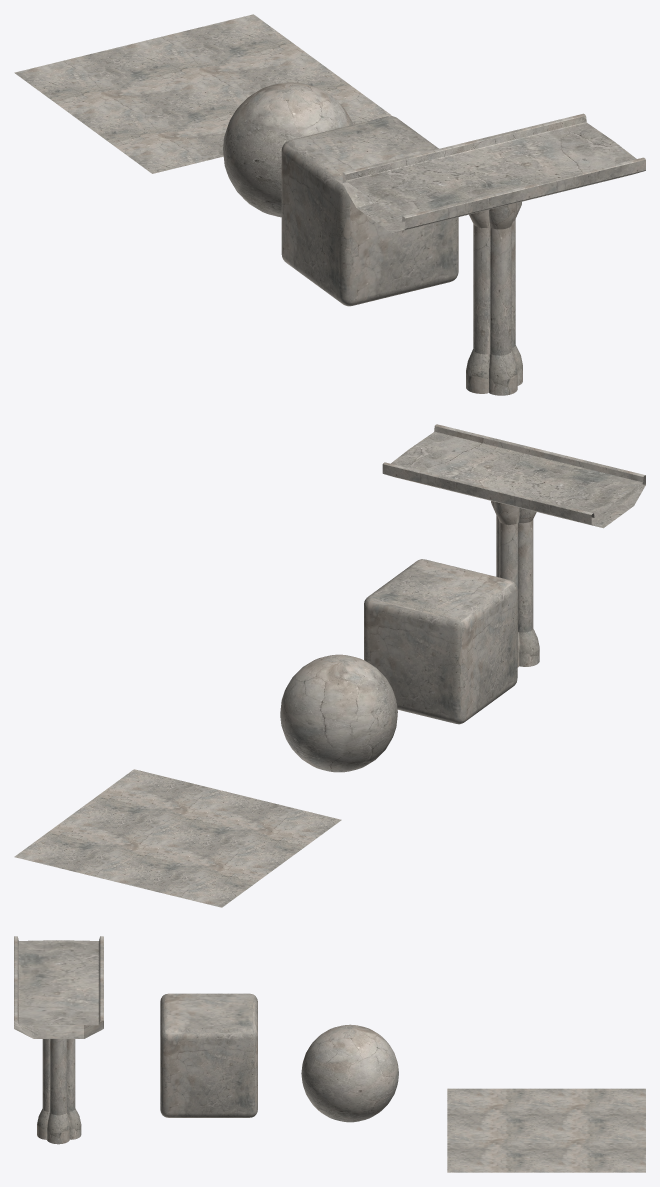
The model's file is material_demonstration.fbx.
3 views of the same model, one above another, from view 1: azimuth 30°, elevation 25°; view 2: azimuth 150°, elevation 25°; view 3: azimuth 270°, elevation 25° (orthographic). The views are drawn at different scales.
Parts seen in each view (by area): view 1: Плоскость, Куб, pod, Сфера, coloana_de_beton; view 2: Плоскость, Куб, pod, Сфера, coloana_de_beton; view 3: Плоскость, Куб, pod, Сфера, coloana_de_beton.
Part boxes in pixels (bbox=[...]): Плоскость: bbox=[14, 14, 391, 173]; Куб: bbox=[281, 116, 458, 306]; pod: bbox=[342, 113, 645, 233]; Сфера: bbox=[223, 82, 353, 217]; coloana_de_beton: bbox=[466, 202, 522, 395]; Плоскость: bbox=[14, 769, 341, 907]; Куб: bbox=[364, 559, 517, 724]; pod: bbox=[382, 424, 645, 528]; Сфера: bbox=[280, 654, 397, 772]; coloana_de_beton: bbox=[491, 501, 539, 667]; Плоскость: bbox=[447, 1088, 645, 1172]; Куб: bbox=[160, 993, 257, 1117]; pod: bbox=[14, 936, 103, 1038]; Сфера: bbox=[301, 1024, 398, 1122]; coloana_de_beton: bbox=[37, 1039, 81, 1144].
Size of the model in its own units: 490 by 354 by 1294.
